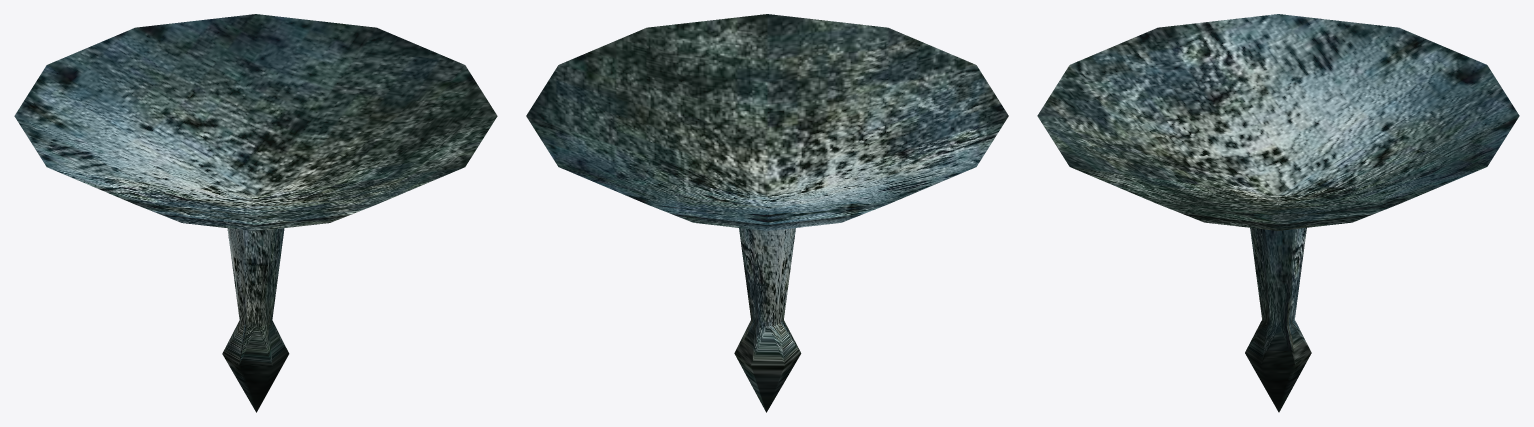
The picture shows the model from 3 angles, left to right: view 1: azimuth 30°, elevation 25°; view 2: azimuth 150°, elevation 25°; view 3: azimuth 270°, elevation 25°; orthographic projection.
Parts seen in each view (by area): view 1: Hp08; view 2: Hp08; view 3: Hp08.
Boxes of the visible parts, <box> form: Hp08: <box>14,14,497,412</box>; Hp08: <box>526,14,1008,412</box>; Hp08: <box>1037,14,1519,412</box>.
Size of the model in its own units: 29.52 by 20.04 by 29.52.
